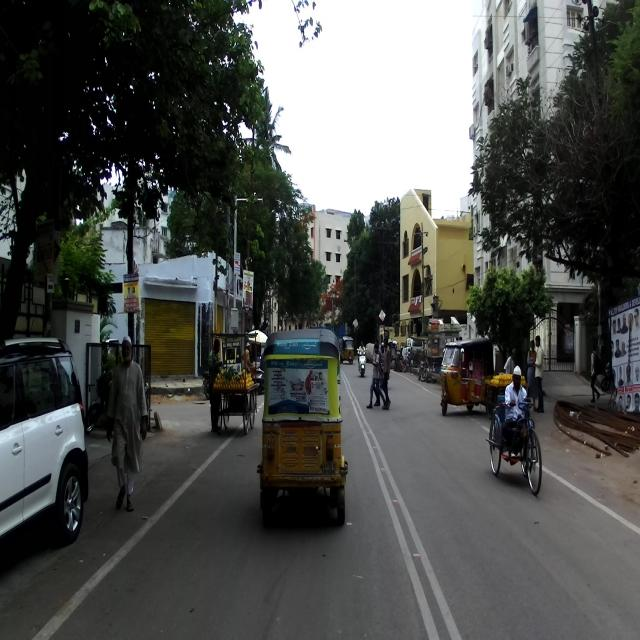autorickshaw: (256, 328, 348, 529), (440, 336, 494, 417)
motorcycle: (84, 358, 152, 434)
